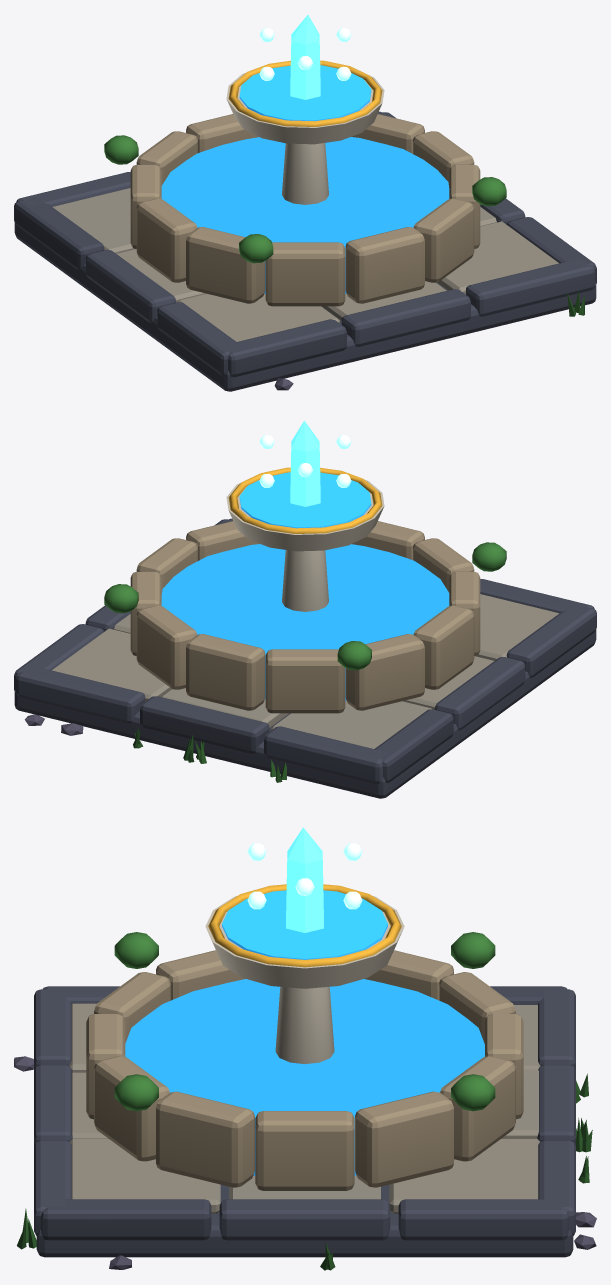
The model's file is fountain.glb.
3 renders of one model, top to bottom at view 1: azimuth 30°, elevation 25°; view 2: azimuth 150°, elevation 25°; view 3: azimuth 270°, elevation 25°, orthographic. The views are drawn at different scales.
Visible parts, largest first — view 1: t0_stone_dark, t0_stone_warm, t0_water, t0_marble, t1_moss, t0_crystal, t2_gold, jet_t0_bob5_glow_teal; view 2: t0_stone_dark, t0_stone_warm, t0_water, t0_marble, t1_moss, t0_crystal, t2_gold, jet_t0_bob5_glow_teal, t0_moss; view 3: t0_stone_dark, t0_stone_warm, t0_water, t0_marble, t1_moss, t0_crystal, t2_gold, t0_moss, jet_t0_bob5_glow_teal, t0_rock_light.
Boxes of the visible parts, x1=… form: t0_stone_dark: x1=14, y1=111, x2=596, y2=391; t0_stone_warm: x1=130, y1=114, x2=480, y2=306; t0_water: x1=161, y1=65, x2=449, y2=293; t0_marble: x1=52, y1=68, x2=558, y2=341; t1_moss: x1=104, y1=135, x2=506, y2=263; t0_crystal: x1=290, y1=15, x2=320, y2=99; t2_gold: x1=228, y1=60, x2=382, y2=126; jet_t0_bob5_glow_teal: x1=259, y1=28, x2=351, y2=80; t0_stone_dark: x1=14, y1=518, x2=596, y2=798; t0_stone_warm: x1=130, y1=521, x2=480, y2=713; t0_water: x1=161, y1=472, x2=449, y2=700; t0_marble: x1=52, y1=475, x2=558, y2=748; t1_moss: x1=104, y1=542, x2=506, y2=670; t0_crystal: x1=290, y1=420, x2=320, y2=506; t2_gold: x1=228, y1=467, x2=382, y2=533; jet_t0_bob5_glow_teal: x1=259, y1=435, x2=351, y2=487; t0_moss: x1=133, y1=728, x2=286, y2=782; t0_stone_dark: x1=34, y1=986, x2=575, y2=1257; t0_stone_warm: x1=86, y1=950, x2=523, y2=1190; t0_water: x1=125, y1=890, x2=484, y2=1175; t0_marble: x1=68, y1=896, x2=540, y2=1213; t1_moss: x1=114, y1=932, x2=495, y2=1111; t0_crystal: x1=286, y1=827, x2=323, y2=932; t2_gold: x1=208, y1=884, x2=401, y2=967; t0_moss: x1=17, y1=1073, x2=592, y2=1270; jet_t0_bob5_glow_teal: x1=247, y1=843, x2=362, y2=909; t0_rock_light: x1=14, y1=1056, x2=596, y2=1269.
Size of the model in its own units: 2.03 by 1.29 by 2.11.
